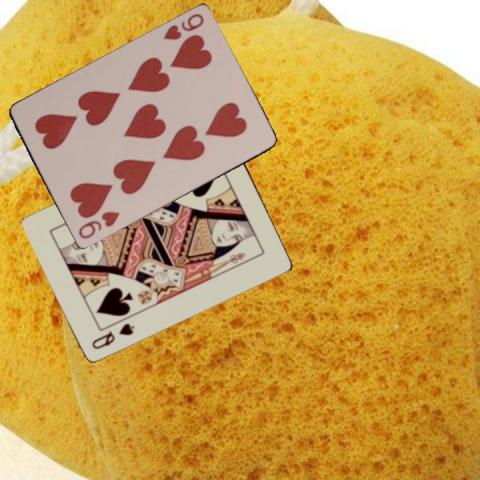9h: (75, 208, 122, 241), (160, 11, 205, 42)
Qs: (89, 319, 135, 351)
